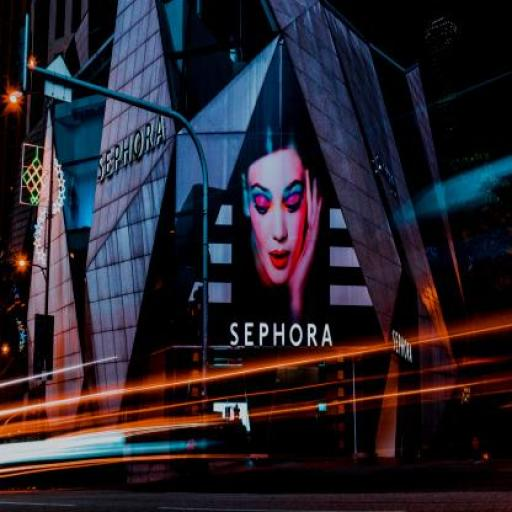street light: (10, 90, 56, 469), (17, 257, 45, 447)
